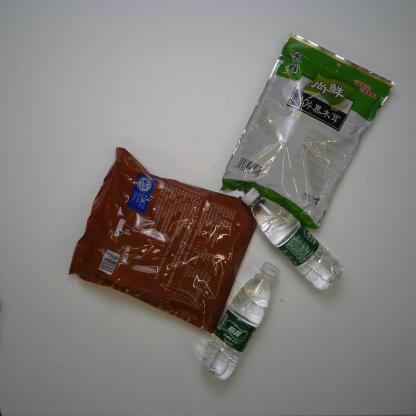Dried Food: (66, 143, 266, 339), (218, 30, 396, 232)
Drink: (240, 184, 345, 294), (196, 261, 282, 383)
